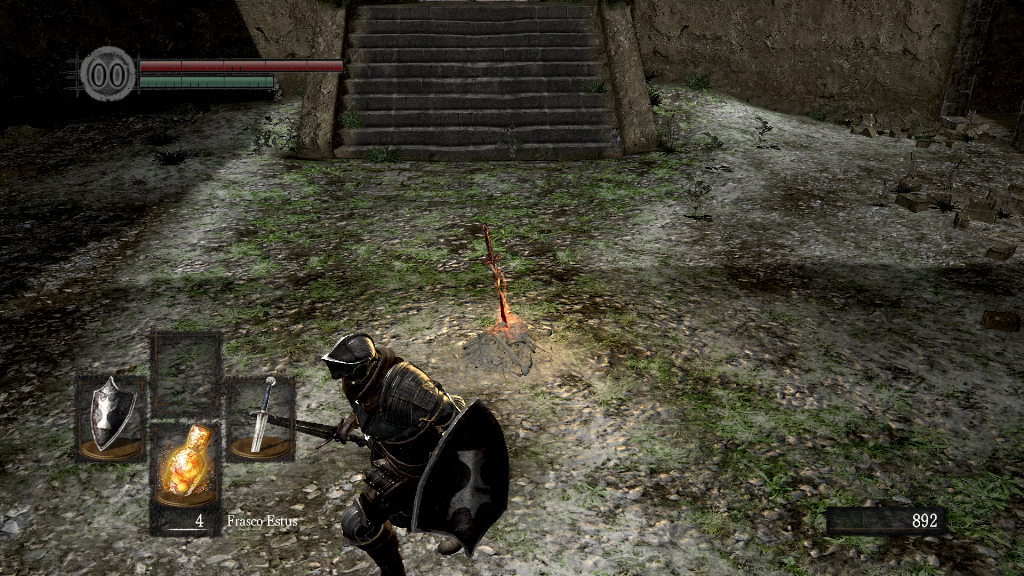bonfire: (453, 223, 552, 373)
health: (138, 58, 343, 71)
humanity: (80, 45, 136, 102)
player: (246, 332, 511, 576)
souls: (825, 506, 945, 536)
stamina: (138, 74, 274, 88)
